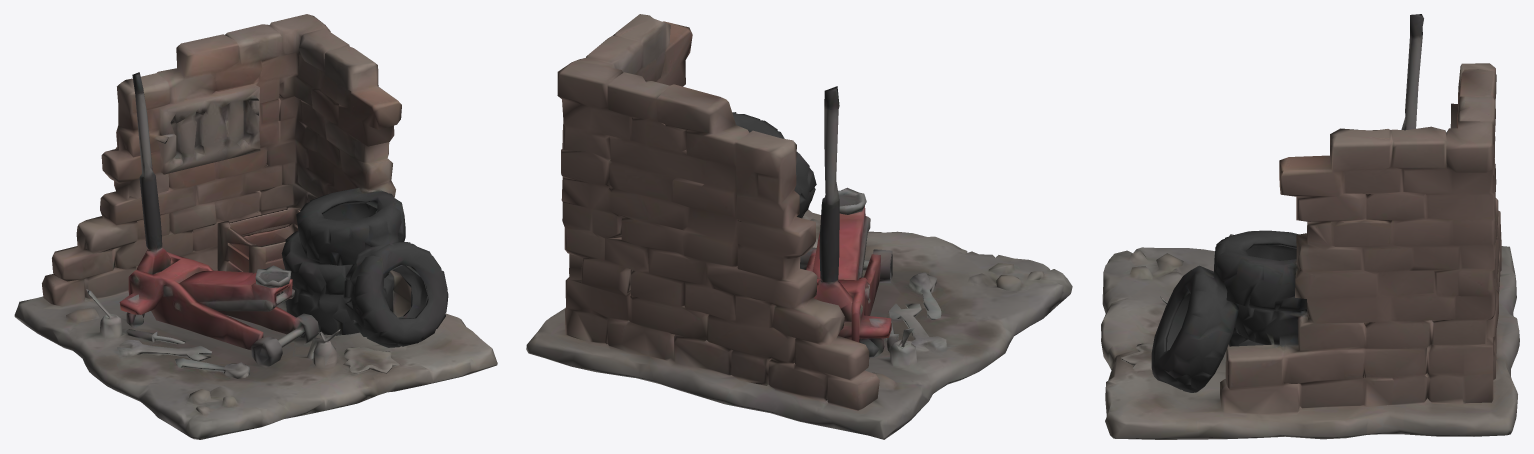
Rendered from motor_park_mechanic.glb.
3 views of the same model, side by side, from view 1: azimuth 30°, elevation 25°; view 2: azimuth 150°, elevation 25°; view 3: azimuth 270°, elevation 25° (orthographic). The views are drawn at different scales.
Parts seen in each view (by area): view 1: tripo_node_8e588a5d-924c-4056-aded-09aaf12545da; view 2: tripo_node_8e588a5d-924c-4056-aded-09aaf12545da; view 3: tripo_node_8e588a5d-924c-4056-aded-09aaf12545da.
Part boxes in pixels (left/top/right/bottom): tripo_node_8e588a5d-924c-4056-aded-09aaf12545da: left=14, top=14, right=497, bottom=439; tripo_node_8e588a5d-924c-4056-aded-09aaf12545da: left=526, top=14, right=1072, bottom=439; tripo_node_8e588a5d-924c-4056-aded-09aaf12545da: left=1101, top=14, right=1519, bottom=439.
Size of the model in its own units: 1 by 0.7465 by 0.9576.
1 material, 1 textured.
